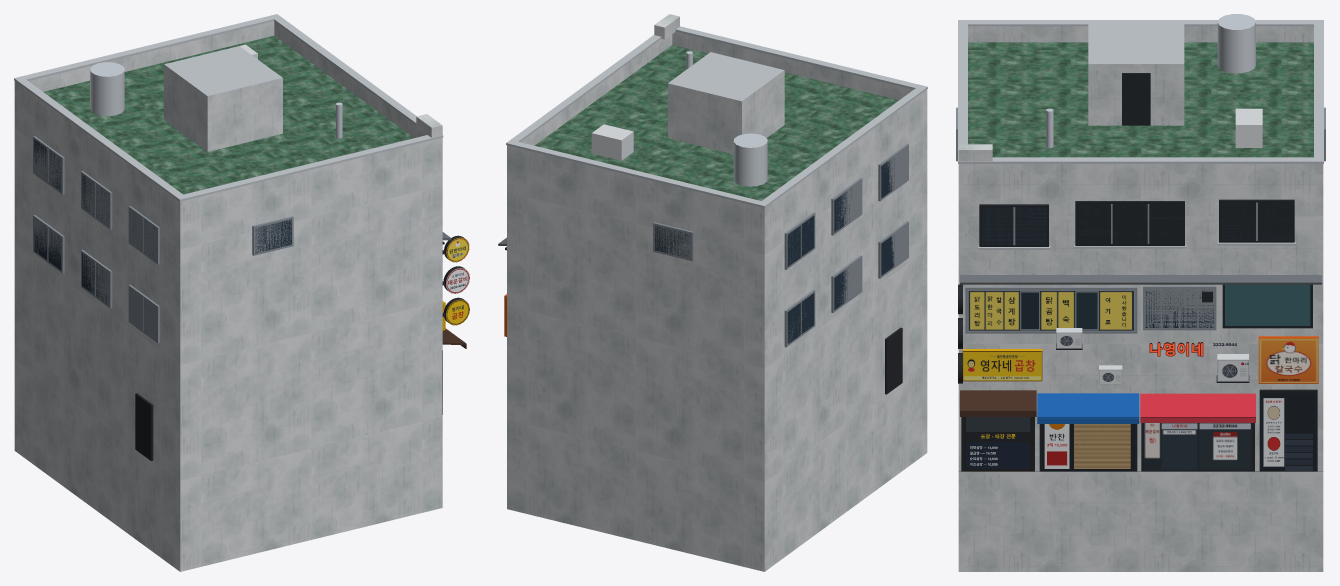
File: place_영자네곱창.glb
The picture shows the model from 3 angles, left to right: view 1: azimuth 30°, elevation 25°; view 2: azimuth 150°, elevation 25°; view 3: azimuth 270°, elevation 25°; orthographic projection. The views are drawn at different scales.
Parts seen in each view (by area): view 1: B9_AboveGround_1F_3F_Body, B9_Basement_1F_Body, Merged_Roof_Parapet, B9_Rooftop_Penthouse, Merged_Rear_WinFrames, Merged_Roof_Coping, Merged_Rear_WinGlass, Merged_Roof_WaterTank, B9_Facade_East_Local, Merged_Side_WinFrames, Merged_Rear_1F_Door, Merged_Side_WinGlass; view 2: B9_AboveGround_1F_3F_Body, B9_Basement_1F_Body, Merged_Roof_Parapet, B9_Rooftop_Penthouse, Merged_Roof_Coping, Merged_Rear_WinFrames, Merged_Rear_WinGlass, Merged_Roof_WaterTank, Merged_Roof_HVAC, Merged_Side_WinFrames, Merged_Rear_1F_Door, Merged_Side_WinGlass; view 3: B9_AboveGround_1F_3F_Body, B9_Basement_1F_Body, B9_Facade_East_Local, Merged_F3_Frames, Merged_Roof_Parapet, B9_Rooftop_Penthouse, B9_2F_Dakhanmari_MenuWindows, Merged_Roof_Coping, B9_Dakhanmari_Entrance, Merged_F2_EaveHood, Merged_F2_RightGlass, Merged_F3_Glass (+19 smaller).
Part boxes in pixels (box(x1,y1,x2,y2)): B9_AboveGround_1F_3F_Body: box(14, 35, 442, 480); B9_Basement_1F_Body: box(14, 359, 442, 571); Merged_Roof_Parapet: box(14, 21, 442, 215); B9_Rooftop_Penthouse: box(164, 46, 282, 151); Merged_Rear_WinFrames: box(33, 136, 159, 343); Merged_Roof_Coping: box(14, 14, 443, 201); Merged_Rear_WinGlass: box(34, 139, 156, 335); Merged_Roof_WaterTank: box(90, 62, 124, 116); B9_Facade_East_Local: box(446, 237, 469, 325); Merged_Side_WinFrames: box(252, 216, 293, 255); Merged_Rear_1F_Door: box(135, 393, 153, 460); Merged_Side_WinGlass: box(255, 219, 291, 253); B9_AboveGround_1F_3F_Body: box(507, 45, 927, 481); B9_Basement_1F_Body: box(507, 363, 927, 571); Merged_Roof_Parapet: box(507, 31, 927, 222); B9_Rooftop_Penthouse: box(668, 52, 784, 154); Merged_Roof_Coping: box(506, 26, 927, 207); Merged_Rear_WinFrames: box(784, 143, 908, 347); Merged_Rear_WinGlass: box(787, 160, 893, 344); Merged_Roof_WaterTank: box(733, 133, 767, 186); Merged_Roof_HVAC: box(591, 124, 633, 160); Merged_Side_WinFrames: box(653, 222, 693, 261); Merged_Rear_1F_Door: box(885, 327, 902, 394); Merged_Side_WinGlass: box(655, 225, 690, 258); B9_AboveGround_1F_3F_Body: box(958, 42, 1323, 470); B9_Basement_1F_Body: box(958, 471, 1323, 571); B9_Facade_East_Local: box(964, 328, 1252, 471); Merged_F3_Frames: box(979, 199, 1294, 246); Merged_Roof_Parapet: box(958, 26, 1323, 179); B9_Rooftop_Penthouse: box(1088, 23, 1184, 125); B9_2F_Dakhanmari_MenuWindows: box(967, 290, 1135, 331); Merged_Roof_Coping: box(958, 20, 1323, 163); B9_Dakhanmari_Entrance: box(1262, 393, 1315, 471); Merged_F2_EaveHood: box(960, 275, 1321, 284); Merged_F2_RightGlass: box(1225, 284, 1310, 325); Merged_F3_Glass: box(982, 203, 1292, 244).
Size of the model in its own units: 12.04 by 16.2 by 11.96.
31 materials, 17 textured.
